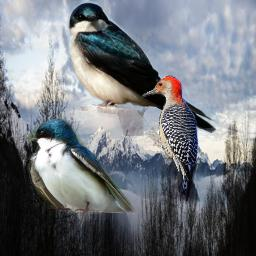Swallow: (67, 1, 218, 136), (27, 117, 136, 228)
Woodpecker: (142, 75, 199, 201)
